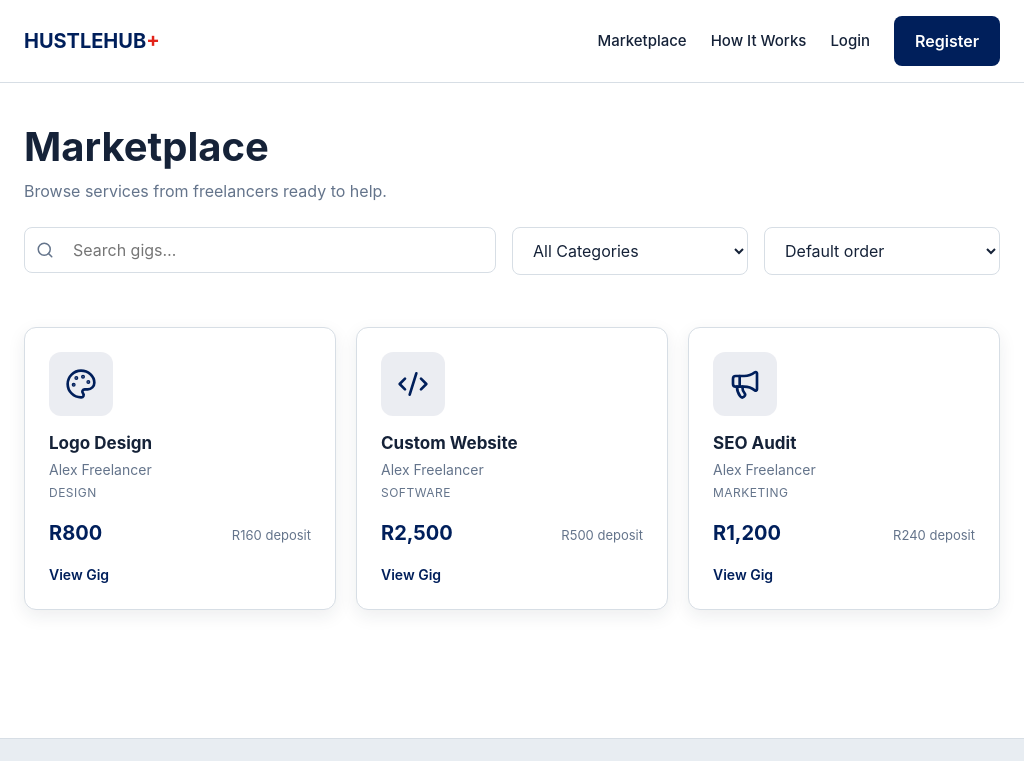
Marketplace filtering › "Clear filters" resets search, sort and category
Expected: the heading "Logo Design" is shown, [49,433,152,453]
Type "zzz-no-match" into the field with placeholder "Search gigs…". click: [260, 250]
box: [24,227,496,273]
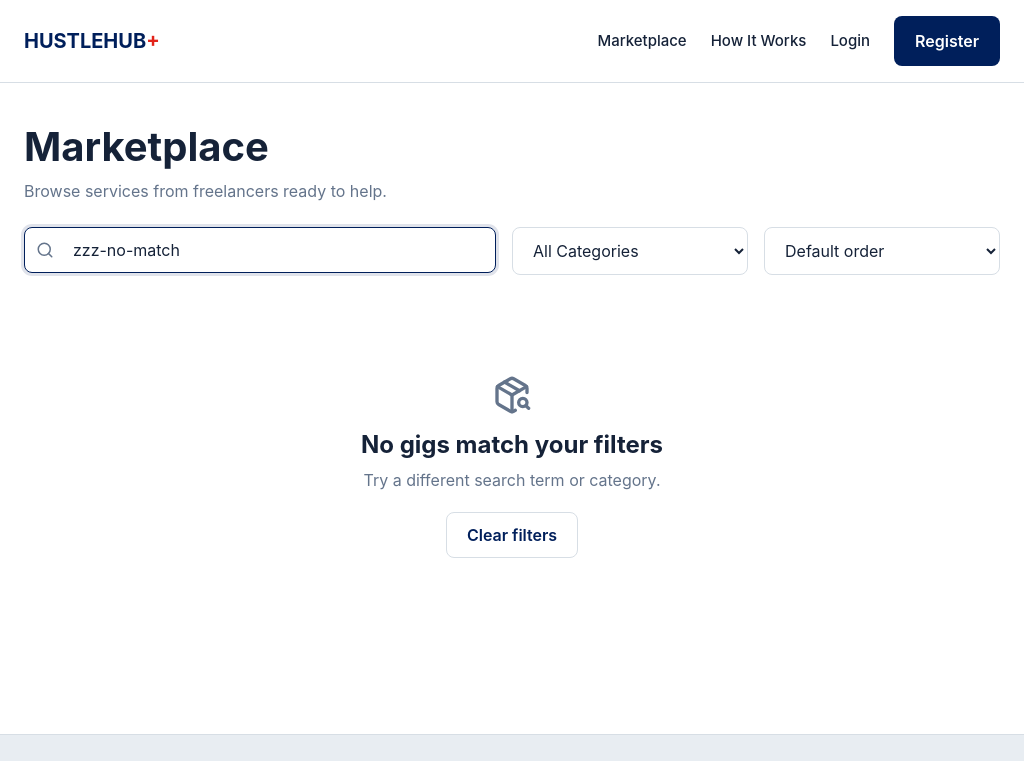
Result: the heading "No gigs match your filters" is shown at [361,431,663,460]
Click the button "Clear filters". click: [512, 535]
box: [446,512,578,558]
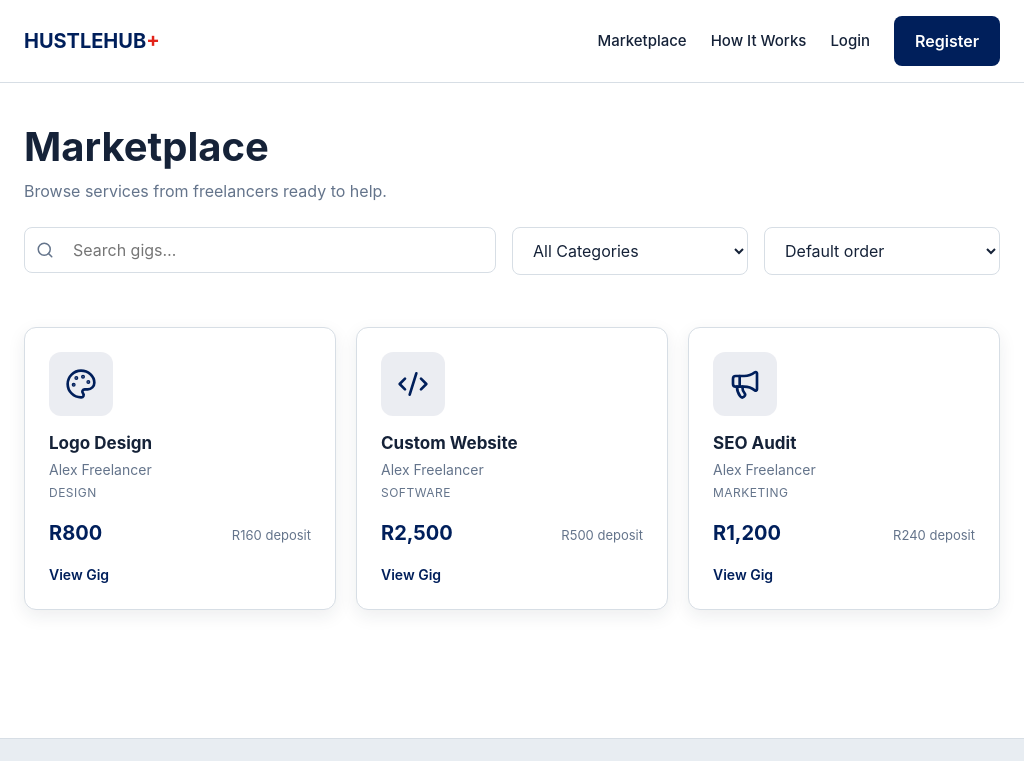
Result: the field labelled "Search gigs" is empty at [24,227,496,273]
